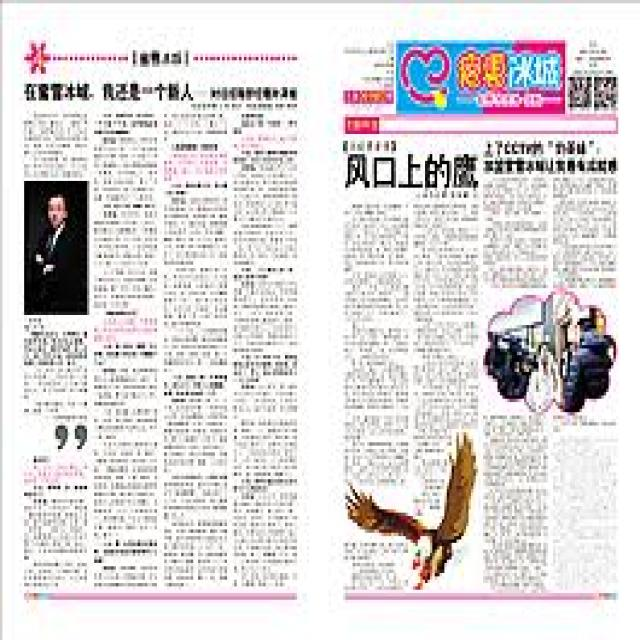paper: (9, 5, 625, 600)
